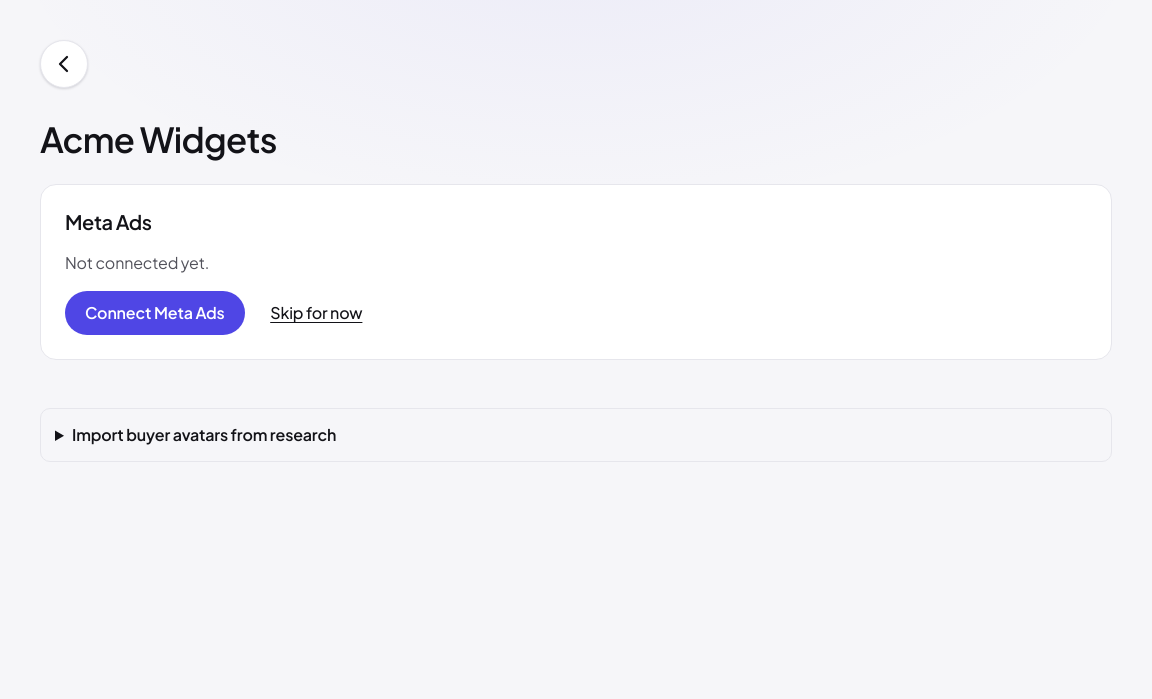
Test case: BusinessDetailPage › the Meta step before the first campaign › the later Meta step, after a campaign, product and audience exist › moves on to the campaigns, saying Meta is still to connect, when skipped
The width and height of the screenshot is (1152, 699).
Click the button "Skip for now". click: {"x": 316, "y": 313}
box: [261,291,372,335]
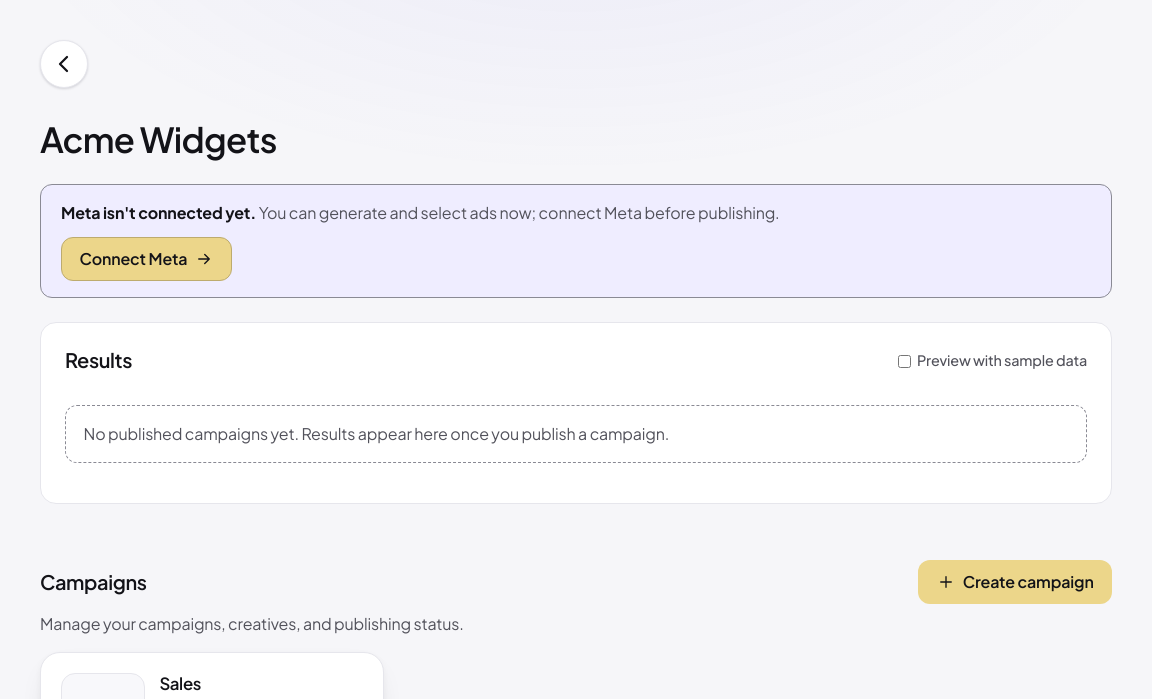
Check: the text "Meta isn't connected yet." is shown, box [61,202,256,223]
Check: the heading "Meta Ads" is gone
